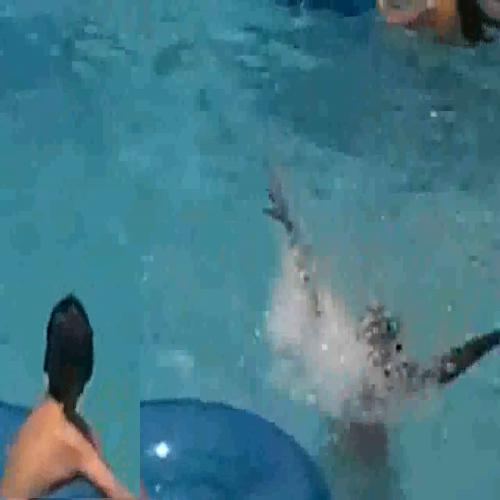drowning: (260, 174, 499, 417)
swimming: (0, 284, 141, 499)
